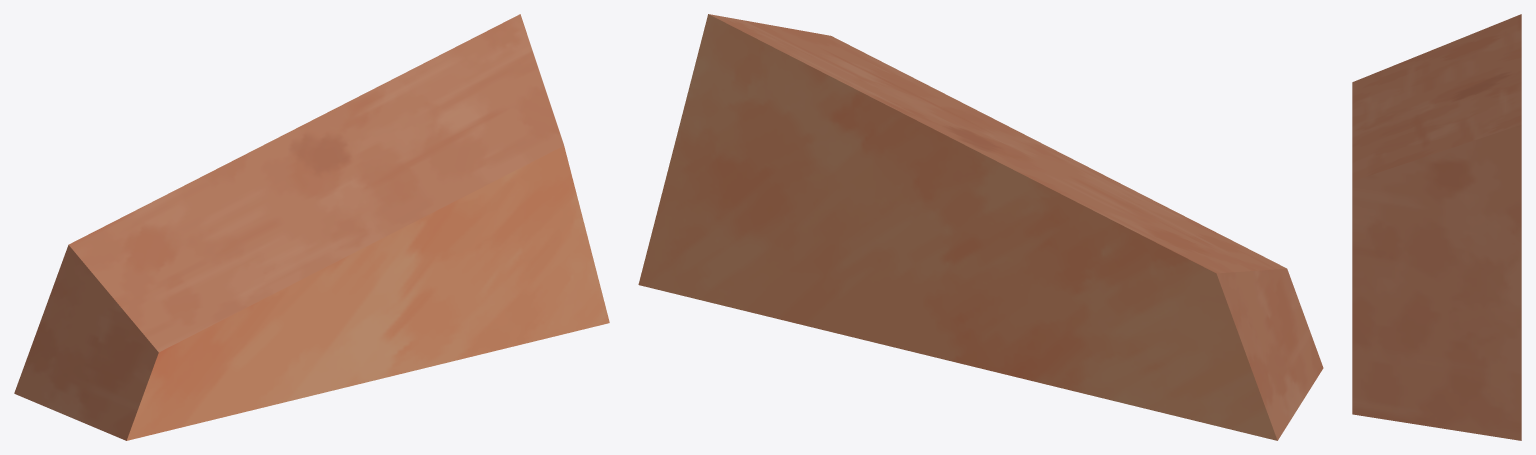
Rendered from wall2_upper_s05.fbx.
3 renders of one model, left to right at view 1: azimuth 30°, elevation 25°; view 2: azimuth 150°, elevation 25°; view 3: azimuth 270°, elevation 25°, orthographic. The views are drawn at different scales.
Visible parts, largest first — view 1: wall2_upper_s05; view 2: wall2_upper_s05; view 3: wall2_upper_s05.
Part boxes in pixels (bbox=[...]): wall2_upper_s05: bbox=[14, 14, 609, 440]; wall2_upper_s05: bbox=[638, 14, 1323, 440]; wall2_upper_s05: bbox=[1352, 14, 1521, 440].
Size of the model in its own units: 4.28 by 1.84 by 1.
